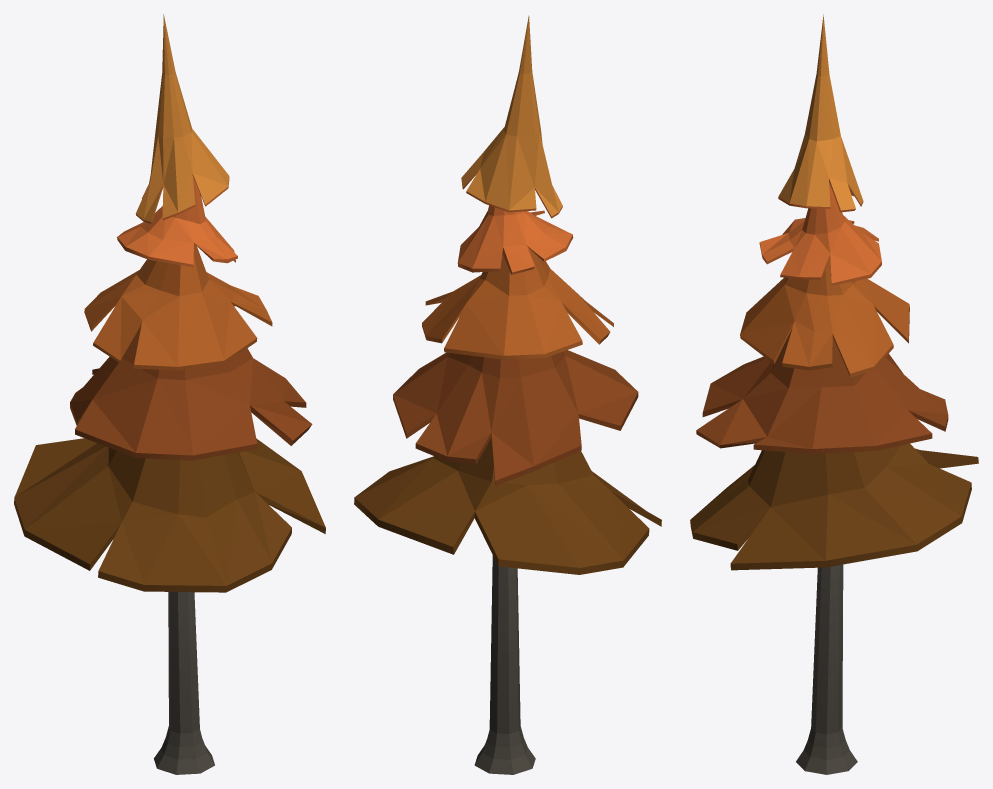
File: ZLP_Plant_K_3.FBX
3 renders of one model, left to right at view 1: azimuth 30°, elevation 25°; view 2: azimuth 150°, elevation 25°; view 3: azimuth 270°, elevation 25°, orthographic. The views are drawn at different scales.
Parts seen in each view (by area): view 1: ZLP_Plant_K_3; view 2: ZLP_Plant_K_3; view 3: ZLP_Plant_K_3.
Part boxes in pixels (x1,y1,x2,y2): ZLP_Plant_K_3: (14,14,325,774); ZLP_Plant_K_3: (354,15,661,774); ZLP_Plant_K_3: (690,14,978,774).
Size of the model in its own units: 219 by 616 by 219.
